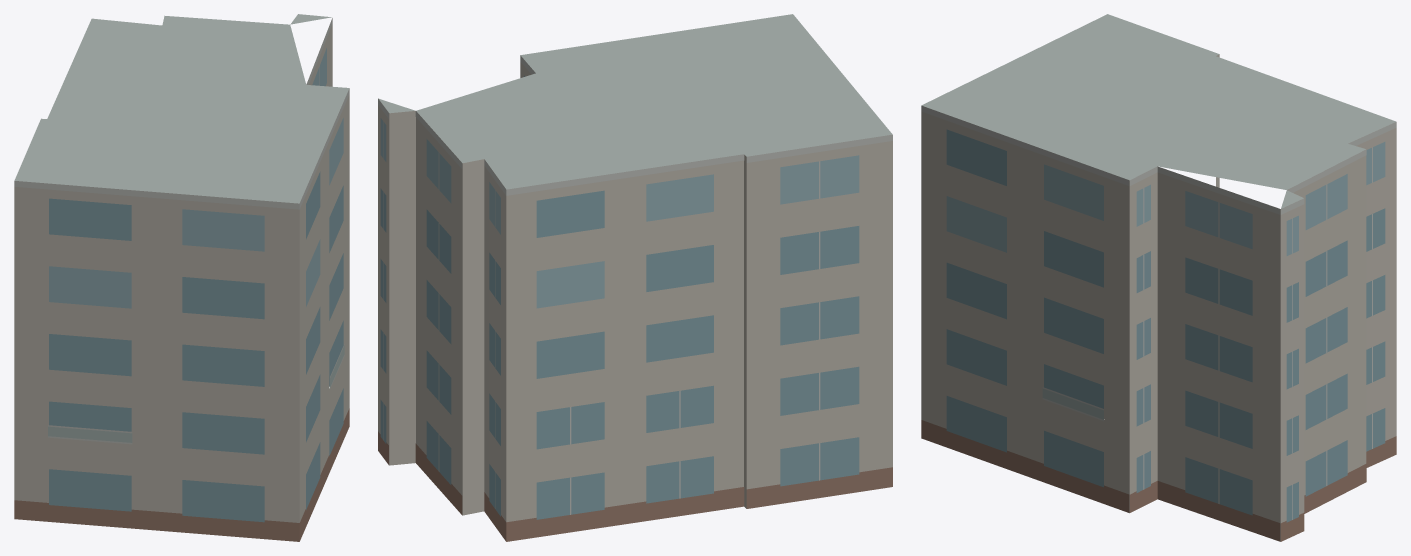
The model's file is survey-upis-33010676.glb.
The picture shows the model from 3 angles, left to right: view 1: azimuth 30°, elevation 25°; view 2: azimuth 150°, elevation 25°; view 3: azimuth 270°, elevation 25°; orthographic projection. The views are drawn at different scales.
Visible parts, largest first — view 1: survey-upis-33010676.tmp; view 2: survey-upis-33010676.tmp; view 3: survey-upis-33010676.tmp.
Boxes of the visible parts, box(x1,y1,x2,y2) form: survey-upis-33010676.tmp: box(14, 14, 349, 541); survey-upis-33010676.tmp: box(378, 14, 892, 541); survey-upis-33010676.tmp: box(921, 14, 1396, 541).
Bounding box in the file's own units: 17.22 × 13.7 × 17.74.
